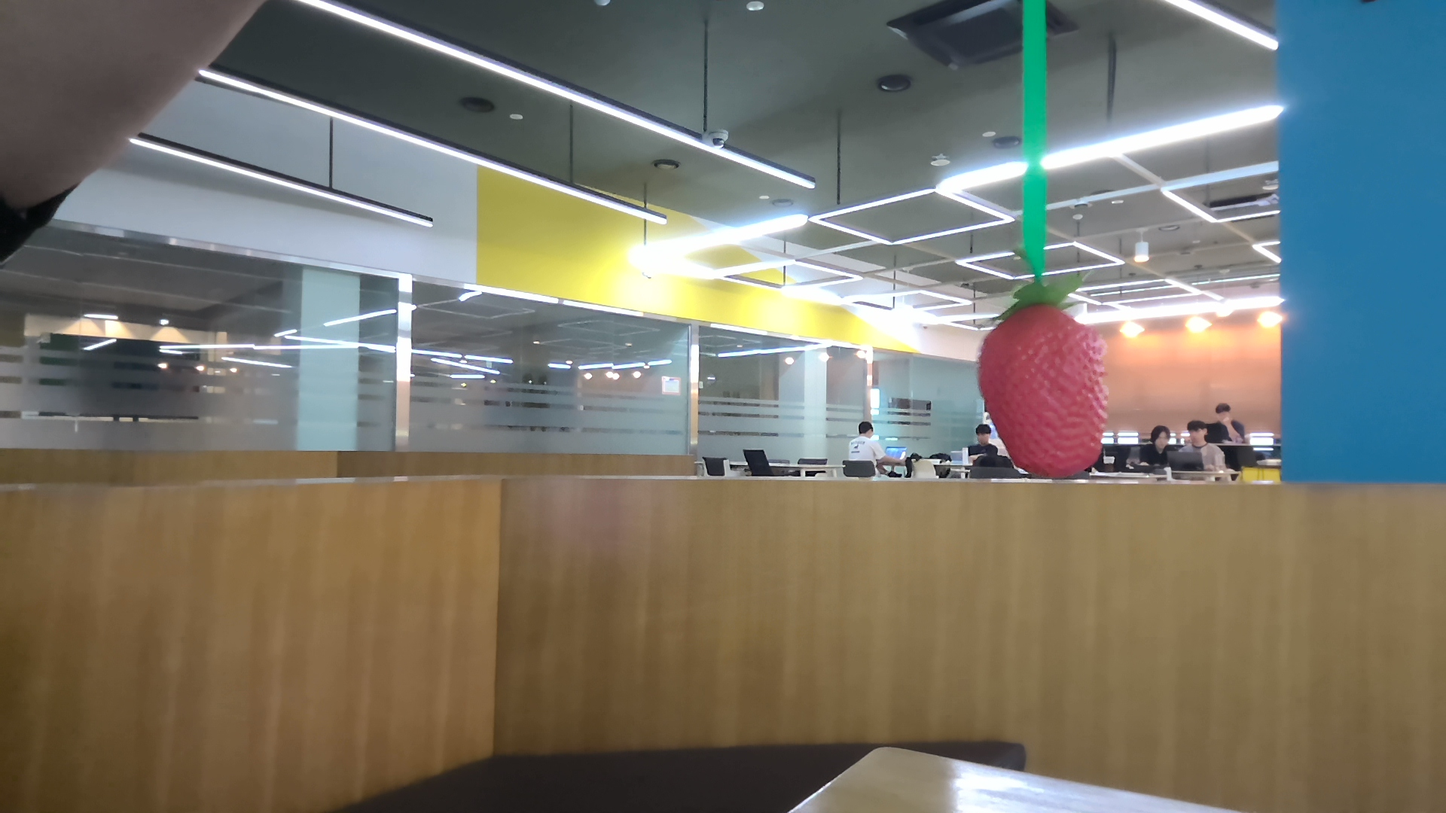strawberry: (957, 291, 1130, 483)
